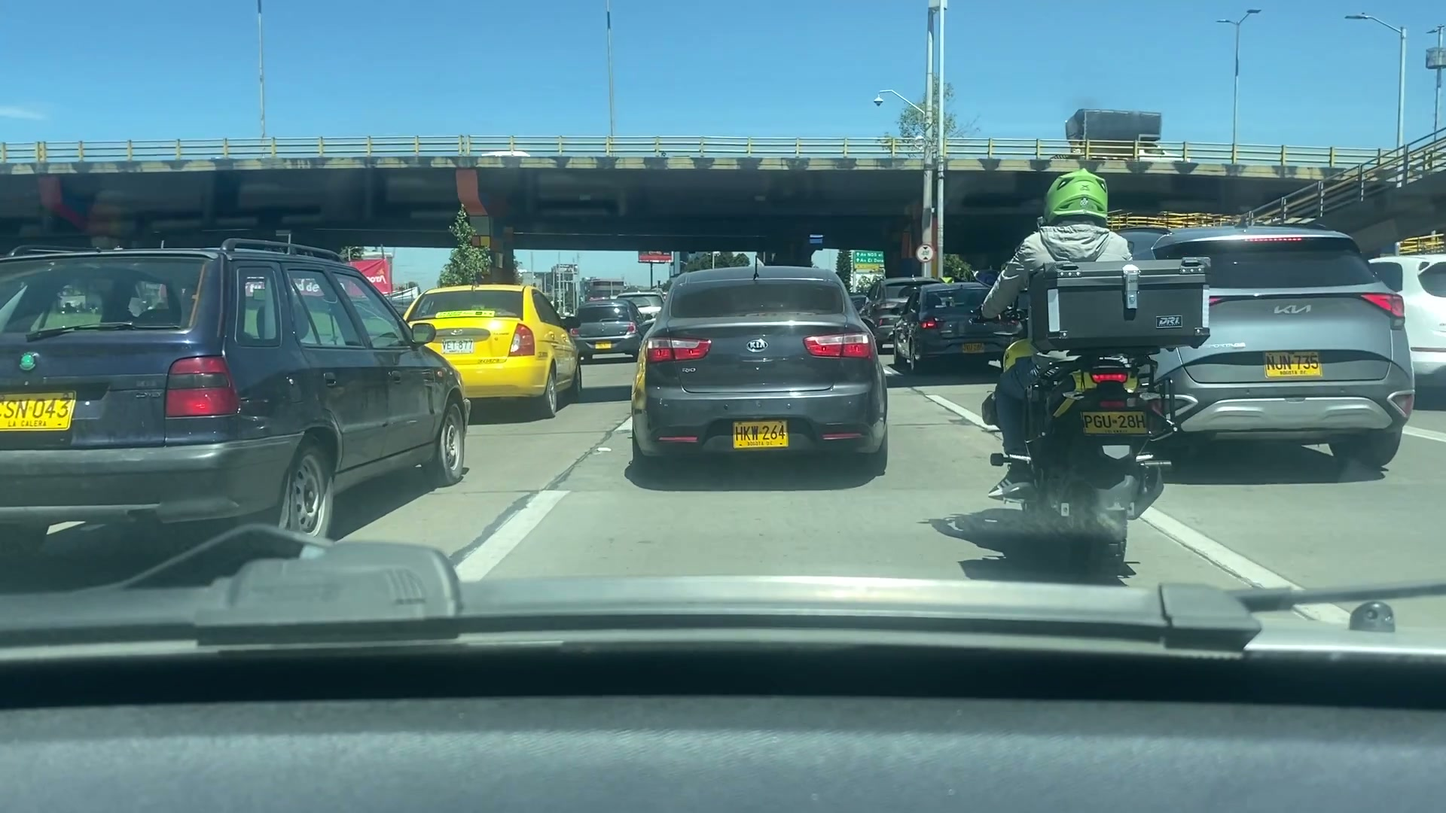car: (1, 231, 476, 569), (1082, 224, 1418, 466), (629, 263, 892, 481), (387, 282, 591, 416), (890, 282, 1013, 370), (575, 301, 646, 356)
motorcycle: (980, 350, 1181, 586)
person: (979, 166, 1183, 509)
